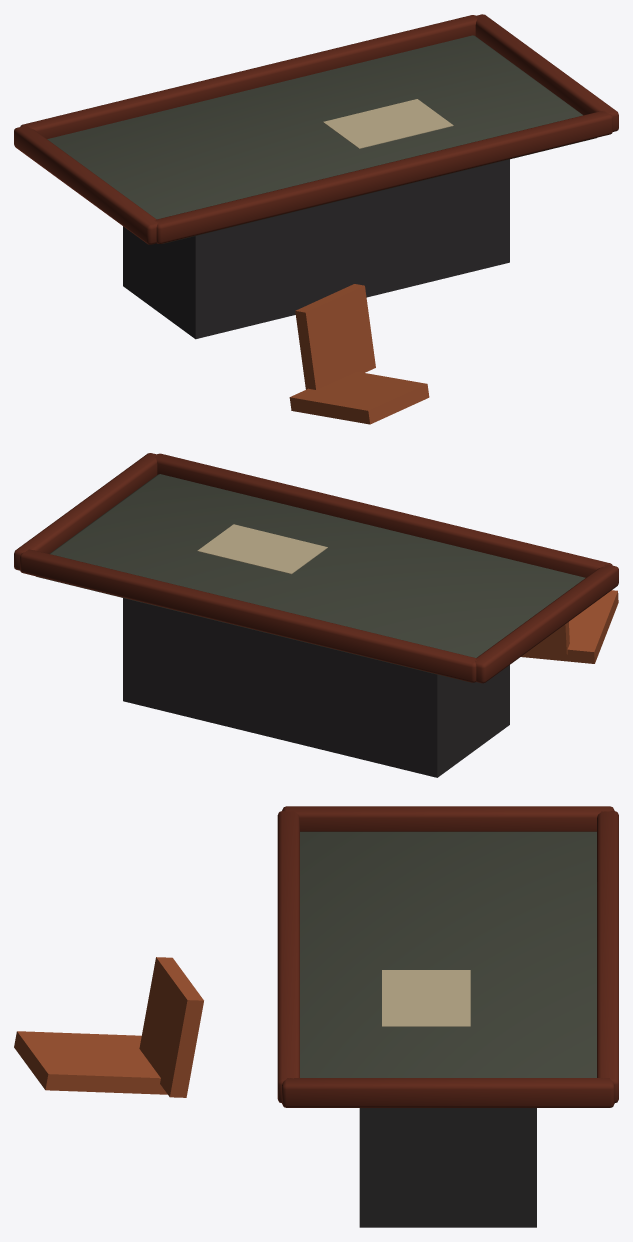
File: cover_table.glb
3 views of the same model, one above another, from view 1: azimuth 30°, elevation 25°; view 2: azimuth 150°, elevation 25°; view 3: azimuth 270°, elevation 25° (orthographic). The views are drawn at different scales.
Parts seen in each view (by area): view 1: top, base, rail_0_-0.72, rail_0_0.72, chair_seat, chair_back, rail_-1.45_0, rail_1.45_0, worn; view 2: top, base, rail_0_0.72, rail_0_-0.72, rail_-1.45_0, rail_1.45_0, worn, chair_back, chair_seat; view 3: top, base, rail_1.45_0, rail_-1.45_0, chair_back, rail_0_-0.72, chair_seat, rail_0_0.72, worn.
Part boxes in pixels (box(x1,y1,x2,y2)): top: box(47, 35, 596, 243); base: box(123, 159, 509, 339); rail_0_-0.72: box(154, 111, 612, 243); rail_0_0.72: box(20, 15, 477, 138); chair_seat: box(295, 284, 375, 389); chair_back: box(289, 371, 429, 424); rail_-1.45_0: box(14, 125, 158, 244); rail_1.45_0: box(474, 14, 618, 131); worn: box(323, 99, 453, 148); top: box(36, 474, 585, 682); base: box(123, 598, 509, 777); rail_0_0.72: box(20, 549, 477, 682); rail_0_-0.72: box(154, 453, 612, 577); rail_-1.45_0: box(475, 564, 618, 683); rail_1.45_0: box(14, 453, 157, 570); worn: box(197, 524, 327, 574); chair_back: box(521, 590, 618, 663); chair_seat: box(528, 622, 569, 655); top: box(300, 831, 596, 1077); base: box(359, 1108, 536, 1227); rail_1.45_0: box(282, 1078, 614, 1107); rail_-1.45_0: box(282, 806, 614, 831); chair_back: box(14, 1031, 167, 1094); rail_0_-0.72: box(277, 811, 299, 1102); chair_seat: box(139, 957, 203, 1097); rail_0_0.72: box(597, 811, 618, 1102); worn: box(382, 970, 470, 1026).
Bounding box in the file's own units: 3 × 0.9815 × 2.73.
